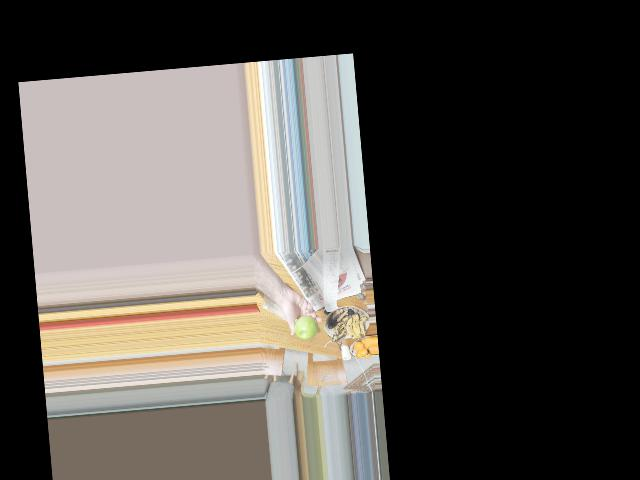apple: (292, 313, 320, 342)
